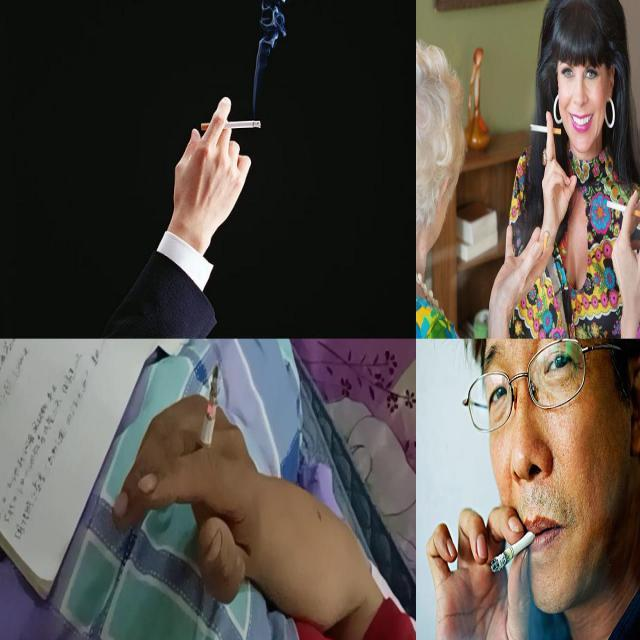smoke: (490, 524, 542, 576), (196, 364, 220, 468), (200, 120, 262, 132), (606, 200, 640, 219), (529, 124, 562, 136)
